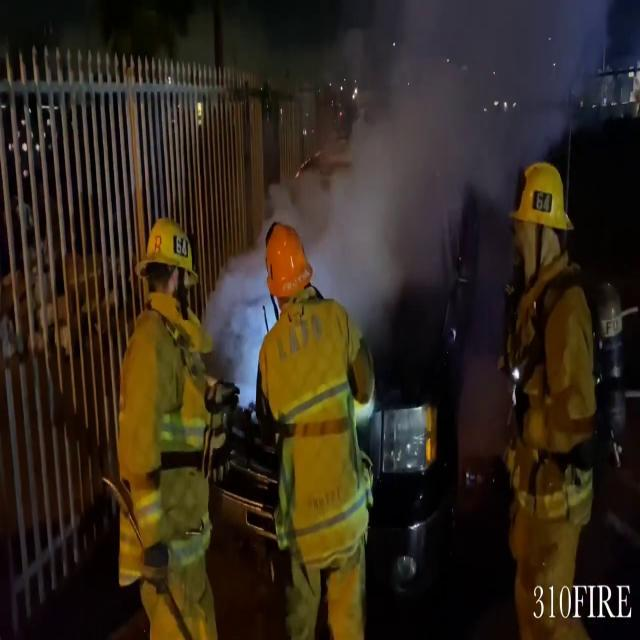Smoke: (327, 0, 576, 309)
